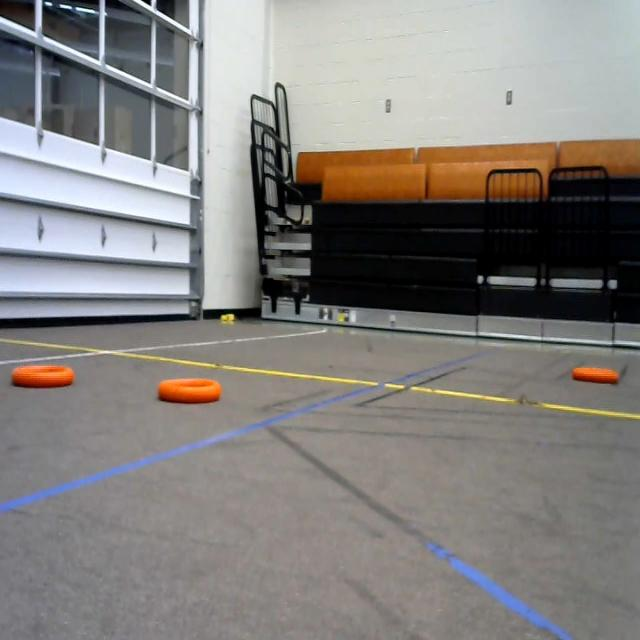note: (5, 359, 79, 402), (152, 367, 232, 406), (572, 360, 626, 394)
